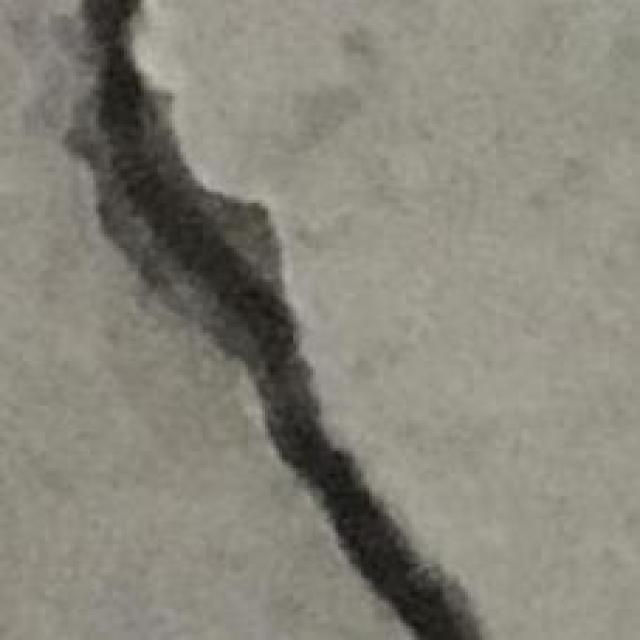Diagonal: (40, 2, 494, 640)
